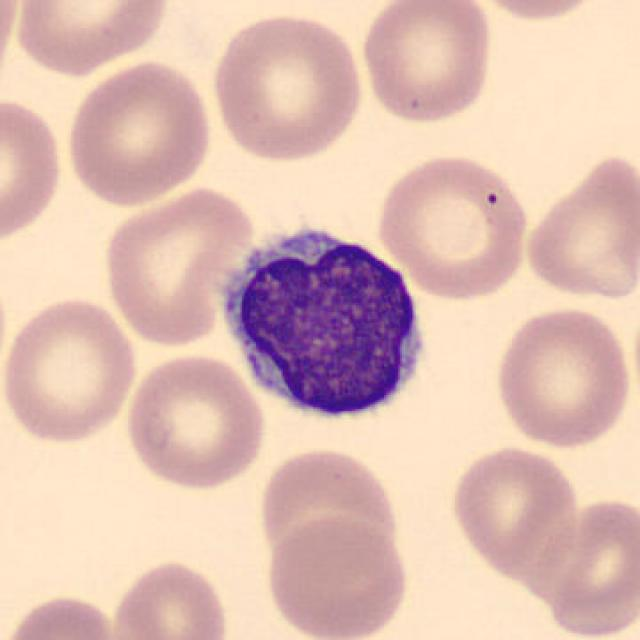Lymphocyte: (206, 208, 439, 434)
RBC: (98, 182, 258, 349), (206, 7, 368, 166), (372, 148, 534, 303), (62, 56, 215, 208), (0, 292, 140, 447), (490, 302, 634, 452), (121, 349, 268, 494), (254, 442, 404, 570), (260, 512, 412, 638), (519, 148, 638, 305), (446, 441, 582, 573), (357, 0, 498, 127), (539, 492, 638, 638), (9, 0, 174, 78), (107, 555, 233, 640), (0, 92, 66, 250), (0, 590, 121, 640), (462, 0, 617, 25), (0, 2, 23, 95)
